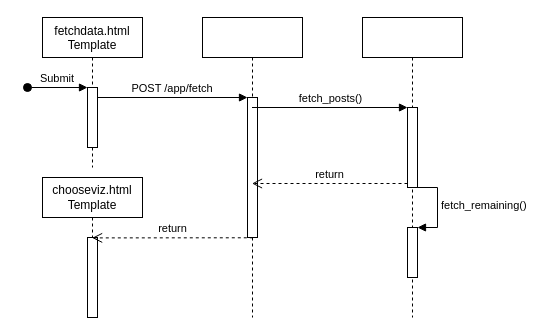
The diagram is 545 pixels wide and 335 high, and some of its shapes have lost their labels. The shapes that lost their labels are listed below. From the top down, each one's box as (x1, y1, x2, y2) in pixels, then its label:
(202, 16, 302, 318): views.py
(362, 16, 462, 318): comm.py
